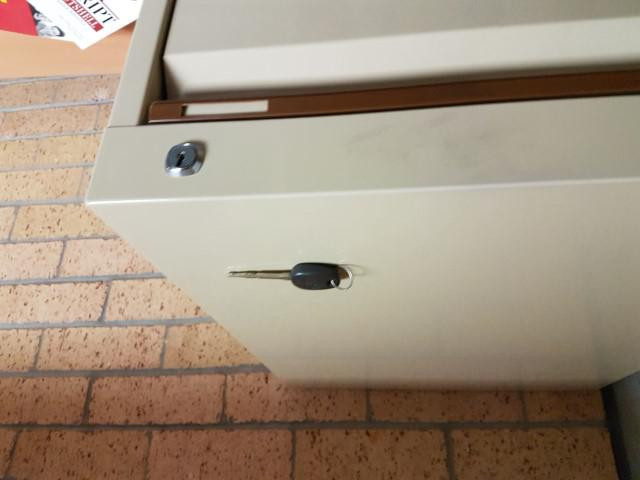key: (222, 258, 345, 296)
